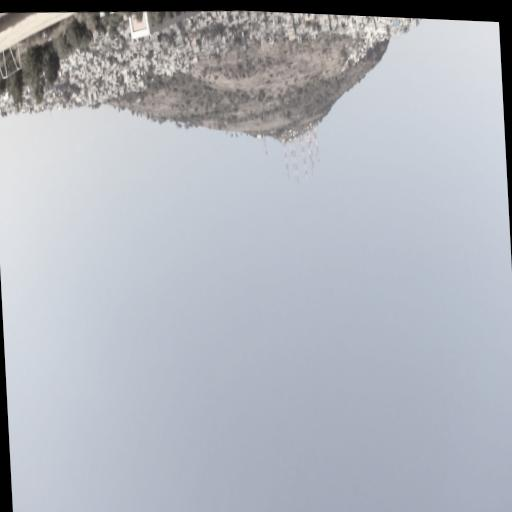drones: (286, 101, 290, 105)
